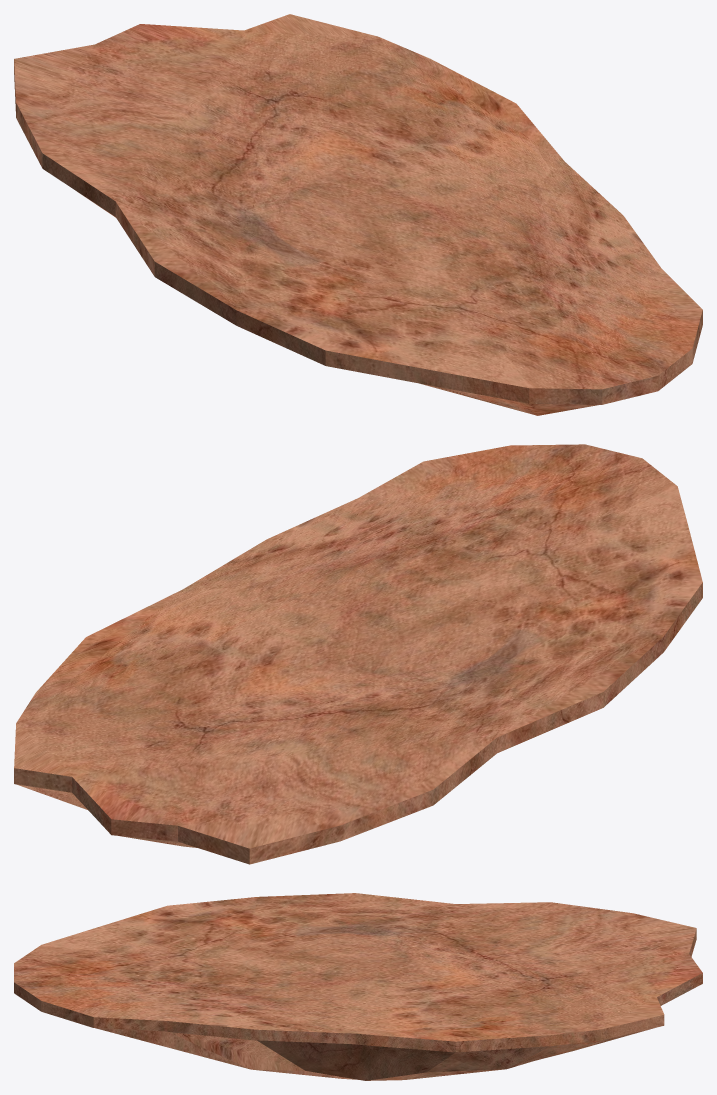
Rendered from rock.glb.
3 views of the same model, one above another, from view 1: azimuth 30°, elevation 25°; view 2: azimuth 150°, elevation 25°; view 3: azimuth 270°, elevation 25° (orthographic). The views are drawn at different scales.
Parts seen in each view (by area): view 1: Cylinder.002; view 2: Cylinder.002; view 3: Cylinder.002.
Part boxes in pixels (x1,y1,x2,y2): Cylinder.002: (14,14,702,415); Cylinder.002: (14,444,702,864); Cylinder.002: (14,893,702,1080).
Size of the model in its own units: 0.2655 by 0.0793 by 0.5203.
2 materials, 2 textured.
